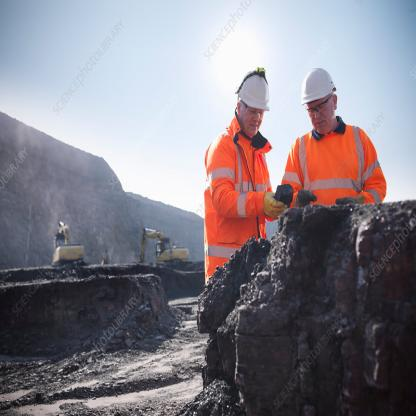excavator: (44, 205, 93, 271), (134, 218, 190, 272)
person: (186, 61, 286, 282), (284, 64, 388, 244)
